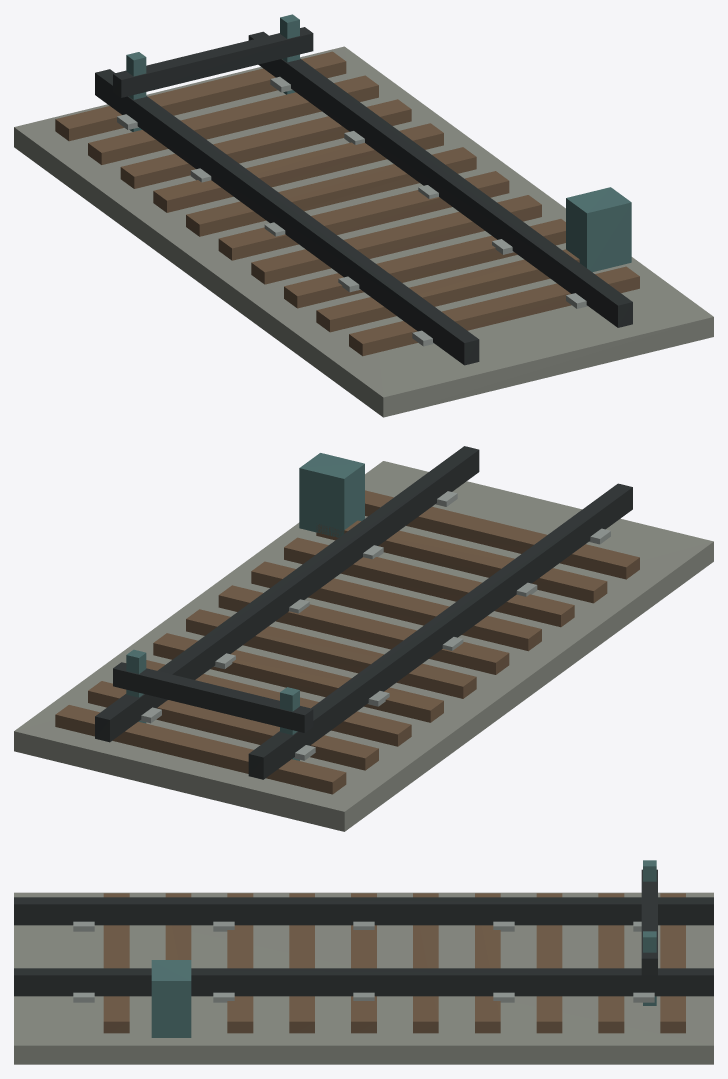
The model's file is Railway-Siding.glb.
The picture shows the model from 3 angles, top to bottom: view 1: azimuth 30°, elevation 25°; view 2: azimuth 150°, elevation 25°; view 3: azimuth 270°, elevation 25°; orthographic projection. The views are drawn at different scales.
Visible parts, largest first — view 1: railway-siding-static-rail-gravel-ballast, railway-siding-static-rail-sleeper-timber, railway-siding-static-rail-dark-metal, railway-siding-static-rail-service-teal, railway-siding-static-rail-galvanized; view 2: railway-siding-static-rail-gravel-ballast, railway-siding-static-rail-sleeper-timber, railway-siding-static-rail-dark-metal, railway-siding-static-rail-service-teal, railway-siding-static-rail-galvanized; view 3: railway-siding-static-rail-gravel-ballast, railway-siding-static-rail-dark-metal, railway-siding-static-rail-sleeper-timber, railway-siding-static-rail-service-teal, railway-siding-static-rail-galvanized.
Boxes of the visible parts, x1=… form: railway-siding-static-rail-gravel-ballast: x1=14, y1=46, x2=713, y2=417; railway-siding-static-rail-sleeper-timber: x1=55, y1=51, x2=639, y2=356; railway-siding-static-rail-dark-metal: x1=95, y1=27, x2=632, y2=365; railway-siding-static-rail-service-teal: x1=126, y1=14, x2=631, y2=272; railway-siding-static-rail-galvanized: x1=117, y1=76, x2=587, y2=346; railway-siding-static-rail-gravel-ballast: x1=14, y1=461, x2=713, y2=831; railway-siding-static-rail-sleeper-timber: x1=55, y1=490, x2=639, y2=794; railway-siding-static-rail-dark-metal: x1=95, y1=446, x2=632, y2=779; railway-siding-static-rail-service-teal: x1=126, y1=453, x2=364, y2=760; railway-siding-static-rail-galvanized: x1=140, y1=491, x2=610, y2=760; railway-siding-static-rail-gravel-ballast: x1=14, y1=892, x2=713, y2=1064; railway-siding-static-rail-dark-metal: x1=14, y1=869, x2=713, y2=996; railway-siding-static-rail-sleeper-timber: x1=103, y1=893, x2=685, y2=1033; railway-siding-static-rail-service-teal: x1=151, y1=860, x2=656, y2=1037; railway-siding-static-rail-galvanized: x1=73, y1=921, x2=654, y2=1002.
Size of the model in its own units: 3.1 by 0.845 by 6.
